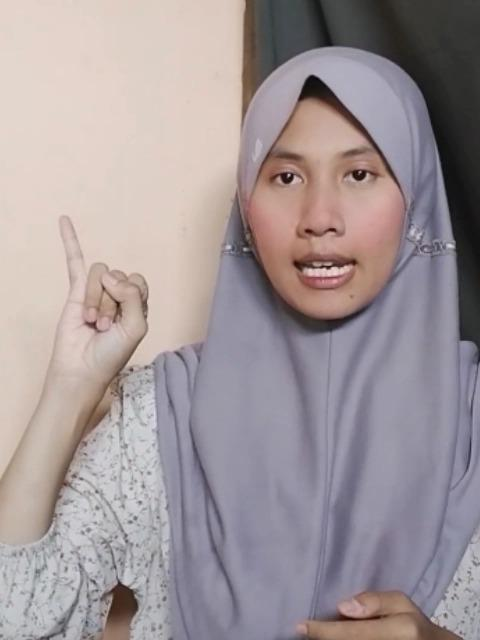I: (49, 212, 153, 372)
